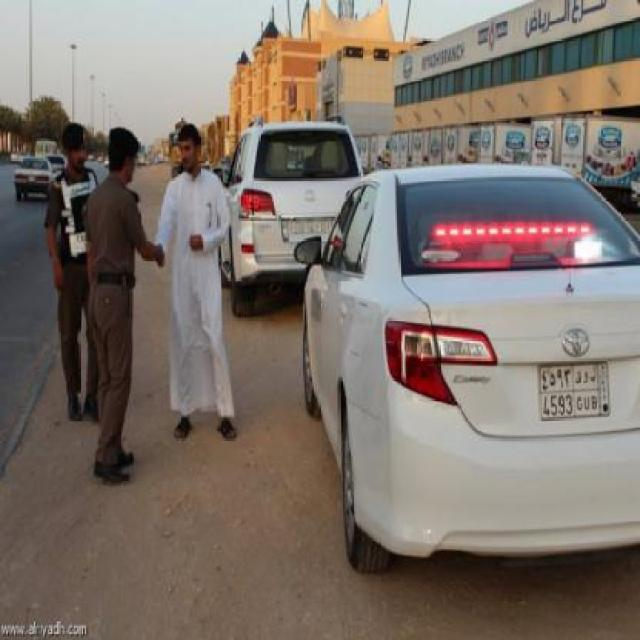license_plate: (537, 359, 612, 421)
